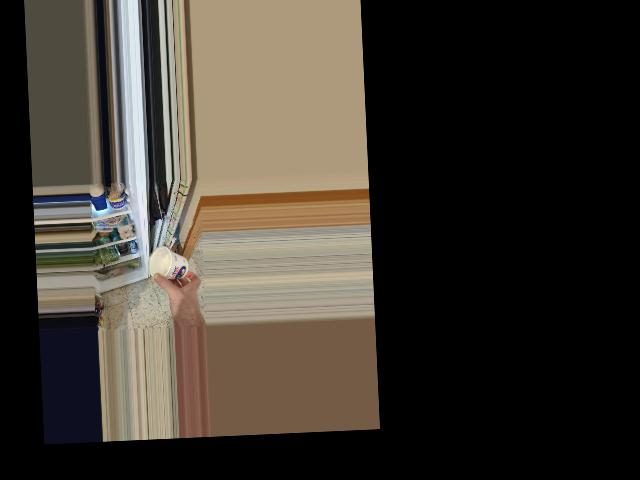cotage: (152, 243, 185, 280)
